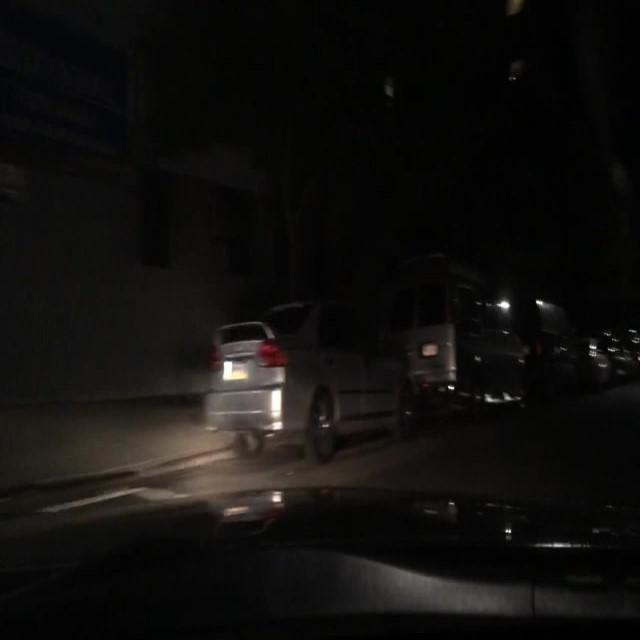normal: (203, 263, 508, 481)
